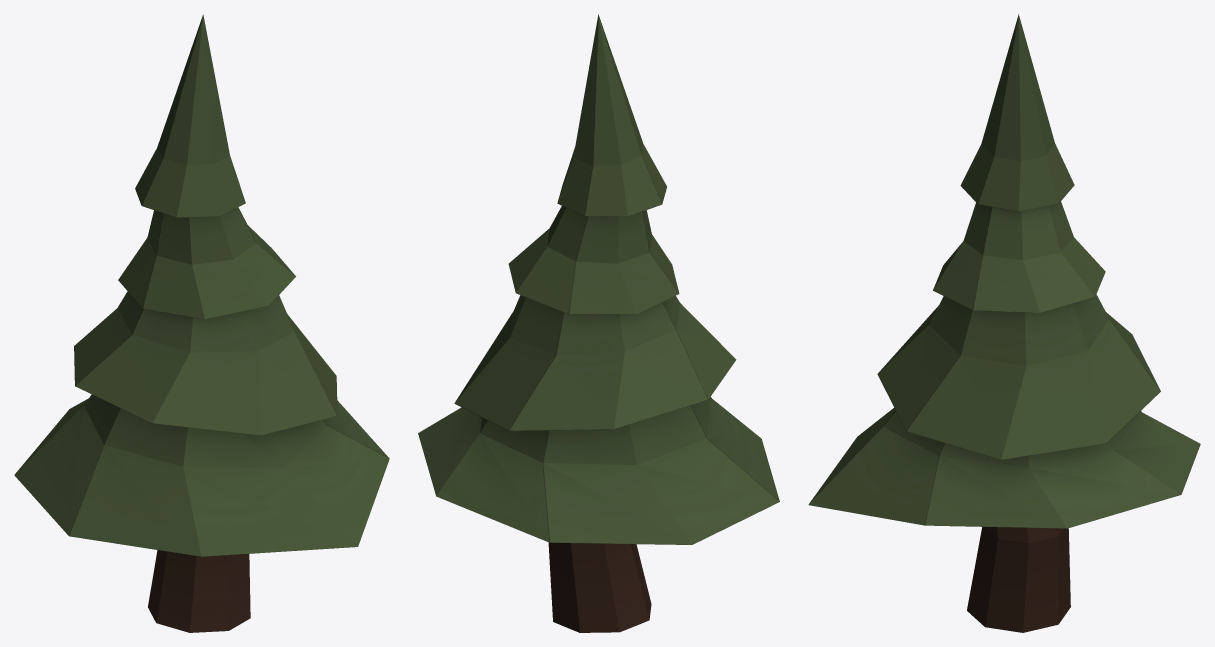
File: tree1.glb
3 views of the same model, side by side, from view 1: azimuth 30°, elevation 25°; view 2: azimuth 150°, elevation 25°; view 3: azimuth 270°, elevation 25° (orthographic).
Parts seen in each view (by area): view 1: Tree.013; view 2: Tree.013; view 3: Tree.013.
Part boxes in pixels (x1,y1,x2,y2): Tree.013: [14, 14, 389, 632]; Tree.013: [418, 14, 779, 632]; Tree.013: [808, 14, 1200, 632].
Size of the model in its own units: 0.7155 by 1.31 by 0.7764.
Materials: 2 (2 with a texture image).
